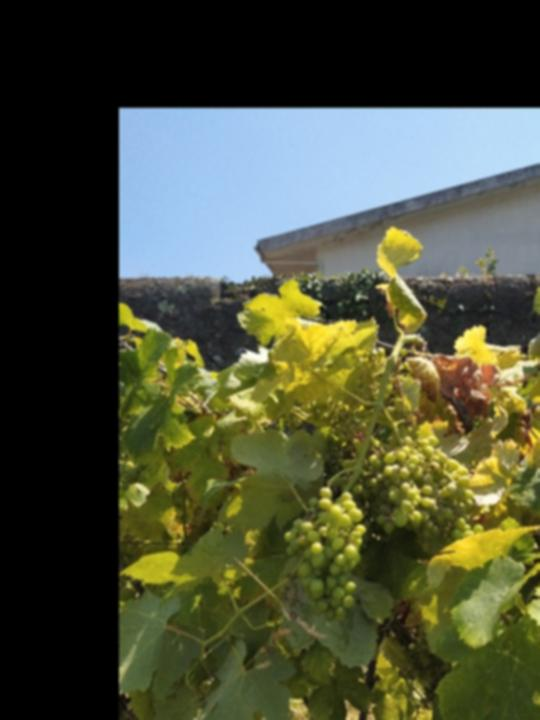grape: (362, 432, 487, 546), (282, 486, 368, 625)
